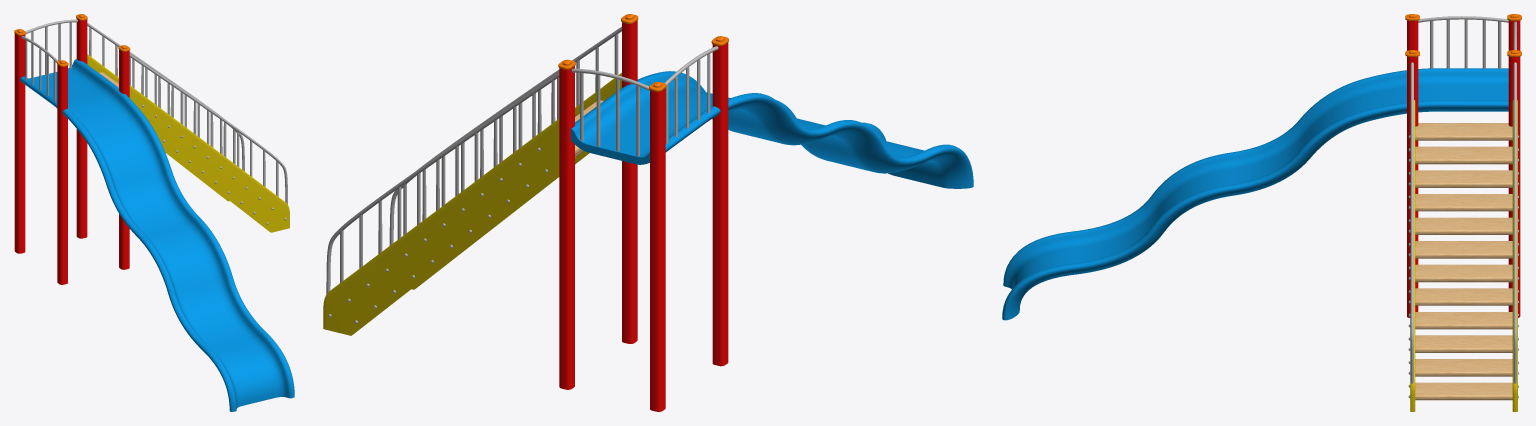
The model's file is slide_playground.glb.
The picture shows the model from 3 angles, left to right: view 1: azimuth 30°, elevation 25°; view 2: azimuth 150°, elevation 25°; view 3: azimuth 270°, elevation 25°; orthographic projection. The views are drawn at different scales.
Parts seen in each view (by area): view 1: NurbsPath_1, PERILO_7, STAIRS_5, Cylinder.005_2, NAVERSHIE_6; view 2: PERILO_7, NurbsPath_1, STAIRS_5, Cylinder.005_2; view 3: NurbsPath_1, STUPKA_4, Cylinder.005_2, PERILO_7, STAIRS_5.
Part boxes in pixels (x1,y1,x2,y2): NurbsPath_1: [20, 59, 294, 411]; PERILO_7: [14, 18, 129, 284]; STAIRS_5: [87, 54, 289, 232]; Cylinder.005_2: [21, 19, 287, 204]; NAVERSHIE_6: [14, 14, 130, 66]; PERILO_7: [559, 20, 728, 411]; NurbsPath_1: [571, 71, 973, 188]; STAIRS_5: [323, 73, 621, 335]; Cylinder.005_2: [326, 26, 718, 294]; NurbsPath_1: [1002, 68, 1508, 320]; STUPKA_4: [1415, 123, 1512, 400]; Cylinder.005_2: [1410, 16, 1516, 383]; PERILO_7: [1407, 20, 1520, 317]; STAIRS_5: [1410, 100, 1517, 411].
Size of the model in its own units: 7.03 by 6.57 by 11.46.
6 materials, 1 textured.
